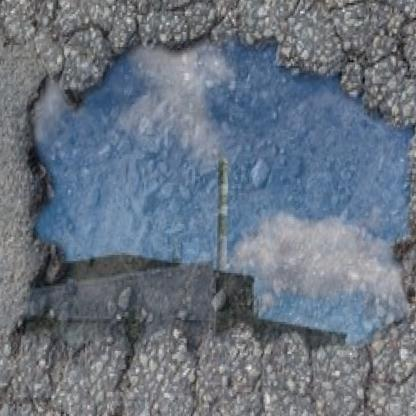pothole: (4, 17, 416, 367)
